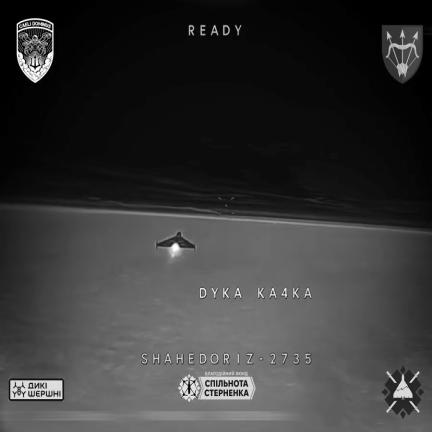Shahed: (156, 232, 196, 256)
